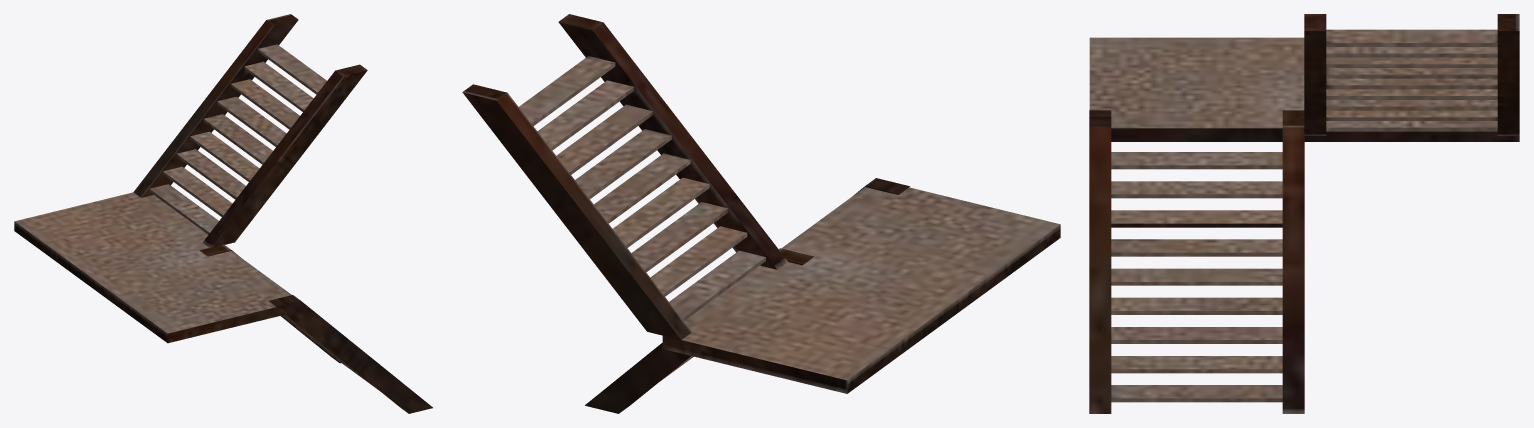
File: metal_stairs_u_shape_textured.glb
3 renders of one model, left to right at view 1: azimuth 30°, elevation 25°; view 2: azimuth 150°, elevation 25°; view 3: azimuth 270°, elevation 25°, orthographic. The views are drawn at different scales.
Visible parts, largest first — view 1: Cube.001; view 2: Cube.001; view 3: Cube.001.
Boxes of the visible parts, <box> form: Cube.001: <box>14,14,432,413</box>; Cube.001: <box>462,14,1060,413</box>; Cube.001: <box>1089,14,1519,413</box>.
Size of the model in its own units: 2.08 by 2.01 by 2.
Materials: 1 (1 with a texture image).
